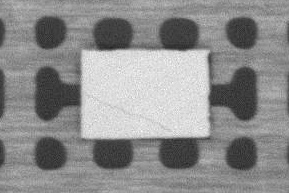DIE_CRACK: (84, 90, 172, 132)
